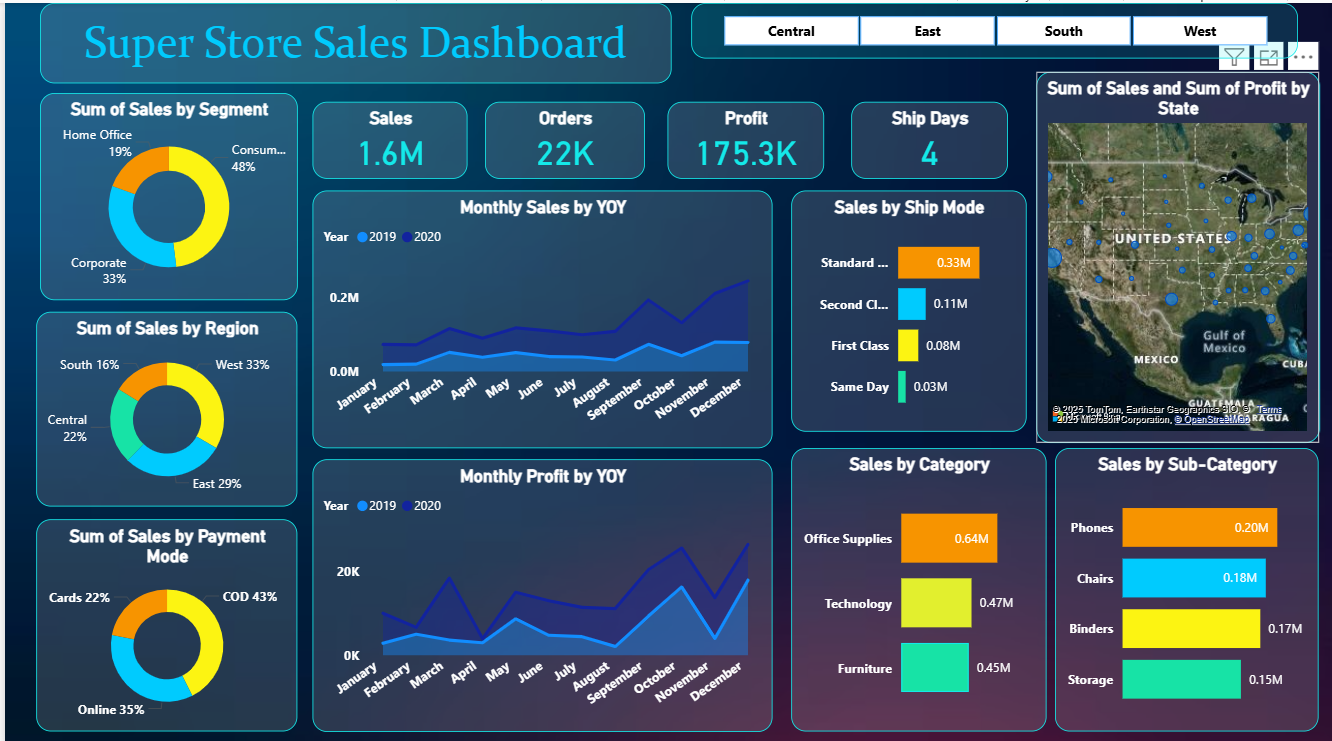

This screenshot's page, from the dashboard's own definition file:
{"tool":"powerbi","page":{"name":"Page 1","canvas":[1280,720],"ordinal":0},"visuals":[{"type":"clusteredBarChart","title":"Sales by Category","fields":{"Category":["SuperStore_Sales_Dataset.Category"],"Y":["Sum(SuperStore_Sales_Dataset.Sales)"]},"box":[758.9,429.5,246.1,273.9],"z":0},{"type":"stackedAreaChart","title":" Monthly Sales by YOY","fields":{"Category":["SuperStore_Sales_Dataset.Order Date.Variation.Date Hierarchy.Month","SuperStore_Sales_Dataset.Order Date.Variation.Date Hierarchy.Day"],"Y":["Sum(SuperStore_Sales_Dataset.Sales)"],"Series":["SuperStore_Sales_Dataset.Order Date.Variation.Date Hierarchy.Year"]},"box":[296.8,181,444,248.5],"z":1000},{"type":"clusteredBarChart","title":" Sales by Sub-Category","fields":{"Category":["SuperStore_Sales_Dataset.Sub-Category"],"Y":["Sum(SuperStore_Sales_Dataset.Sales)"]},"box":[1013.4,429.5,254.6,273.9],"z":2000},{"type":"stackedAreaChart","title":" Monthly Profit  by YOY","fields":{"Category":["SuperStore_Sales_Dataset.Order Date.Variation.Date Hierarchy.Month","SuperStore_Sales_Dataset.Order Date.Variation.Date Hierarchy.Day"],"Series":["SuperStore_Sales_Dataset.Order Date.Variation.Date Hierarchy.Year"],"Y":["Sum(SuperStore_Sales_Dataset.Profit)"]},"box":[296.8,440.4,444,263],"z":3000},{"type":"clusteredBarChart","title":" Sales by Ship Mode","fields":{"Category":["SuperStore_Sales_Dataset.Ship Mode"],"Y":["Sum(SuperStore_Sales_Dataset.Sales)"]},"box":[758.9,181,226.8,232.8],"z":4000},{"type":"map","fields":{"Category":["SuperStore_Sales_Dataset.State"],"Size":["Sum(SuperStore_Sales_Dataset.Sales)"]},"box":[994.9,66,273.3,358.1],"z":5000},{"type":"donutChart","fields":{"Category":["SuperStore_Sales_Dataset.Region"],"Y":["Sum(SuperStore_Sales_Dataset.Sales)"]},"box":[30.2,298,252.1,188.2],"z":6000},{"type":"donutChart","fields":{"Category":["SuperStore_Sales_Dataset.Payment Mode"],"Y":["Sum(SuperStore_Sales_Dataset.Sales)"]},"box":[30.2,498.3,252.1,205.1],"z":7000},{"type":"slicer","fields":{"Values":["SuperStore_Sales_Dataset.Region"]},"box":[662.3,0,585.6,53.8],"z":8000},{"type":"card","title":"Sales","fields":{"Values":["Sum(SuperStore_Sales_Dataset.Sales)"]},"box":[296.8,95.3,149.6,74.8],"z":9000},{"type":"card","title":"Orders","fields":{"Values":["Sum(SuperStore_Sales_Dataset.Quantity)"]},"box":[463.3,95.3,154.4,74.8],"z":10000},{"type":"card","title":"Ship Days","fields":{"Values":["Avg(SuperStore_Sales_Dataset.AvgDelivery)"]},"box":[816.8,95.3,150.8,74.8],"z":11000},{"type":"card","title":"Profit","fields":{"Values":["Sum(SuperStore_Sales_Dataset.Profit)"]},"box":[639.4,95.3,150.8,74.8],"z":12000},{"type":"textbox","box":[30.2,8.4,609.3,66.4],"z":13000},{"type":"donutChart","fields":{"Category":["SuperStore_Sales_Dataset.Segment"],"Y":["Sum(SuperStore_Sales_Dataset.Sales)"]},"box":[33.8,86.9,248.5,200.3],"z":14000}]}

Visuals, with their boxes in screenshot pixels (x1, y1, x2, y2), scaled from the page's 1280x720 canvas onto the 1332x741 screenshot:
"Sales by Category" clusteredBarChart: bbox(790, 442, 1046, 724)
" Monthly Sales by YOY" stackedAreaChart: bbox(309, 186, 771, 442)
" Sales by Sub-Category" clusteredBarChart: bbox(1055, 442, 1320, 724)
" Monthly Profit  by YOY" stackedAreaChart: bbox(309, 453, 771, 724)
" Sales by Ship Mode" clusteredBarChart: bbox(790, 186, 1026, 426)
map - SuperStore_Sales_Dataset.State x Sum(SuperStore_Sales_Dataset.Sales): bbox(1035, 68, 1320, 436)
donutChart - SuperStore_Sales_Dataset.Region x Sum(SuperStore_Sales_Dataset.Sales): bbox(31, 307, 294, 500)
donutChart - SuperStore_Sales_Dataset.Payment Mode x Sum(SuperStore_Sales_Dataset.Sales): bbox(31, 513, 294, 724)
slicer - SuperStore_Sales_Dataset.Region: bbox(689, 0, 1299, 55)
"Sales" card: bbox(309, 98, 465, 175)
"Orders" card: bbox(482, 98, 643, 175)
"Ship Days" card: bbox(850, 98, 1007, 175)
"Profit" card: bbox(665, 98, 822, 175)
textbox: bbox(31, 9, 665, 77)
donutChart - SuperStore_Sales_Dataset.Segment x Sum(SuperStore_Sales_Dataset.Sales): bbox(35, 89, 294, 296)
